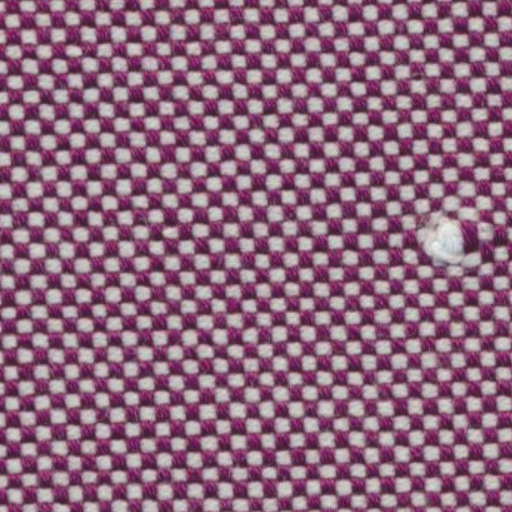MianQiu: (392, 178, 497, 288)
